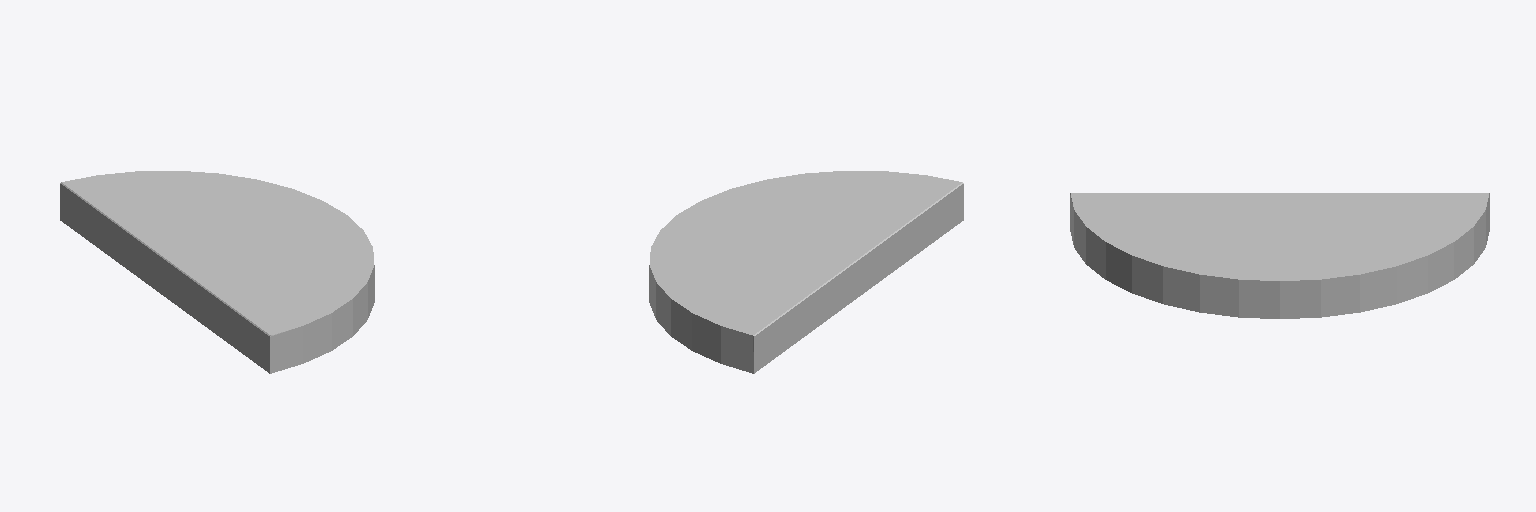
File: PortalDoor_Half_02.obj
3 renders of one model, left to right at view 1: azimuth 30°, elevation 25°; view 2: azimuth 150°, elevation 25°; view 3: azimuth 270°, elevation 25°, orthographic.
Visible parts, largest first — view 1: Cylinder.003; view 2: Cylinder.003; view 3: Cylinder.003.
Part boxes in pixels (bbox=[...]): Cylinder.003: bbox=[60, 171, 374, 373]; Cylinder.003: bbox=[649, 171, 963, 373]; Cylinder.003: bbox=[1070, 193, 1489, 318].
Bounding box in the file's own units: 1 × 0.2 × 2.